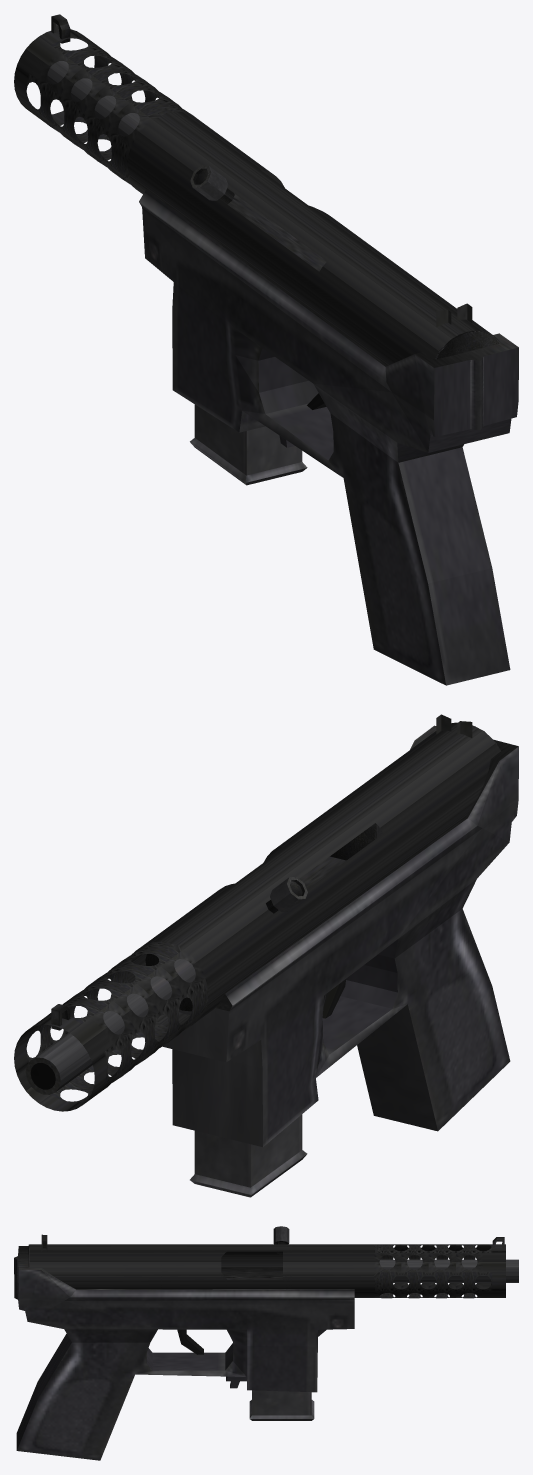
Rendered from tec2.fbx.
3 renders of one model, top to bottom at view 1: azimuth 30°, elevation 25°; view 2: azimuth 150°, elevation 25°; view 3: azimuth 270°, elevation 25°, orthographic. The views are drawn at different scales.
Parts seen in each view (by area): view 1: Cylinder.009, Cube.001, Cylinder.001; view 2: Cylinder.009, Cube.001, Cylinder.001; view 3: Cylinder.009, Cube.001, Cube.003, Cylinder.001.
Boxes of the visible parts, x1,y1,x2,y2 form: Cylinder.009: (14, 14, 518, 685); Cube.001: (190, 404, 307, 485); Cylinder.001: (190, 165, 234, 204); Cylinder.009: (14, 714, 518, 1146); Cube.001: (190, 1114, 307, 1197); Cylinder.001: (266, 877, 307, 913); Cylinder.009: (14, 1234, 518, 1460); Cube.001: (249, 1390, 314, 1420); Cube.003: (177, 1329, 203, 1354); Cylinder.001: (273, 1226, 289, 1254).
Bounding box in the file's own units: 4.15 × 14.23 × 30.4.
Materials: 1 (1 with a texture image).
